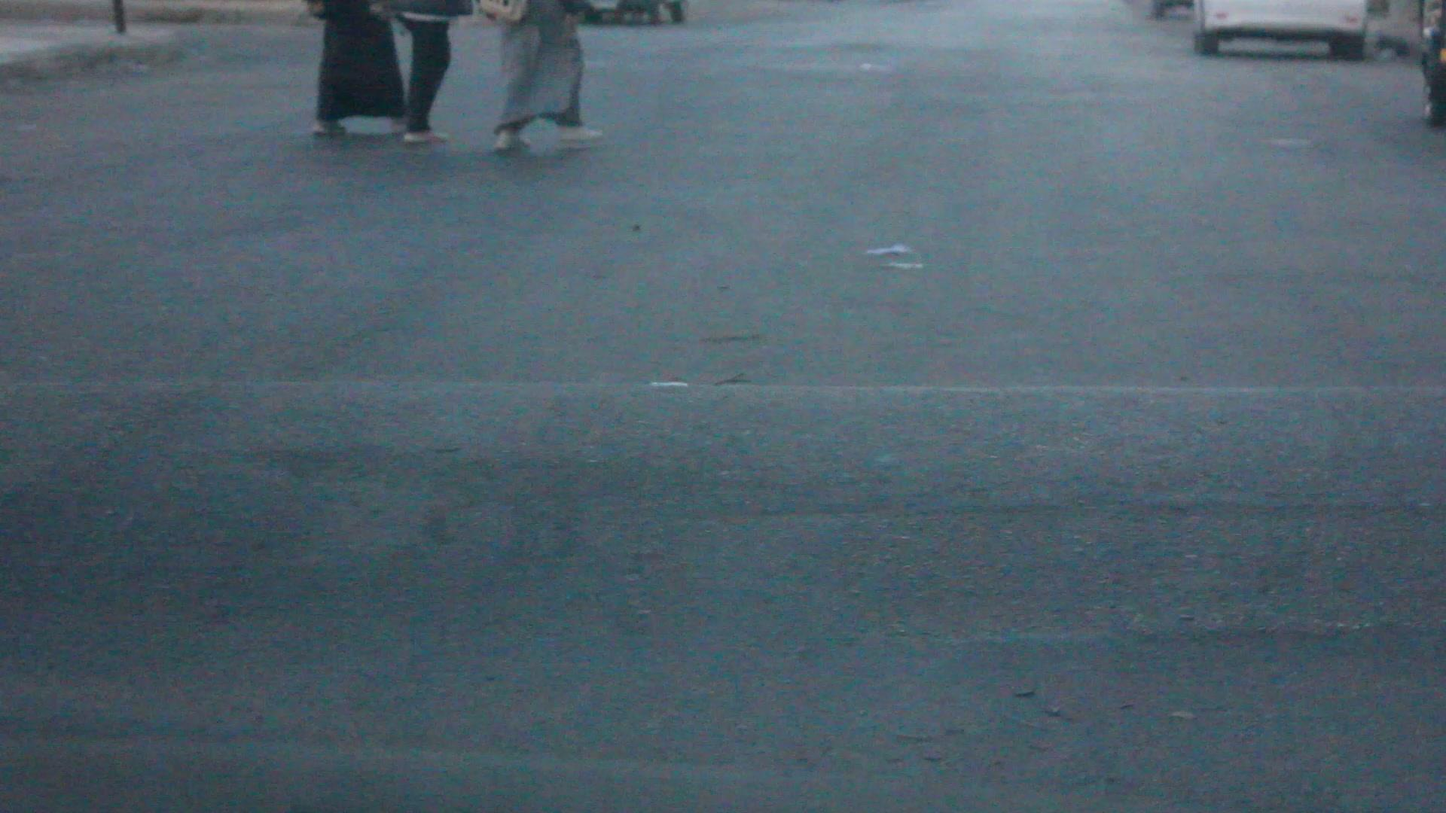Bump: (4, 358, 1446, 696)
